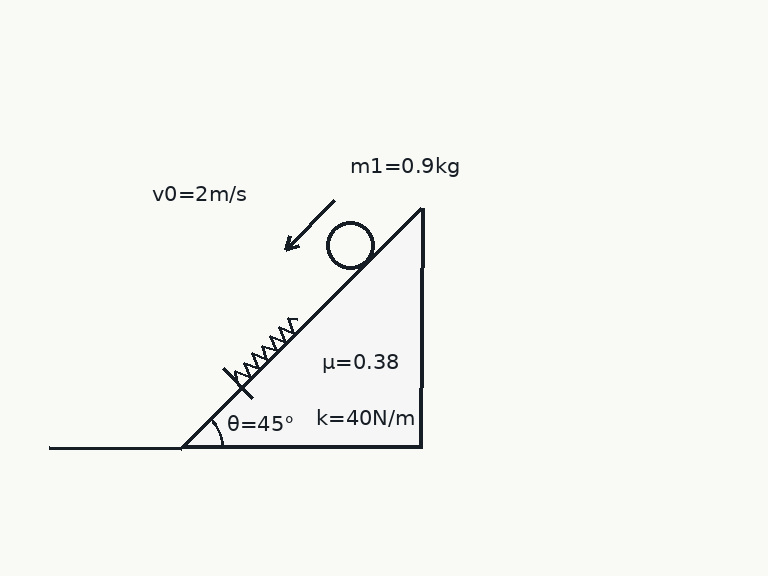ball: (324, 219, 376, 271)
ramp: (180, 206, 423, 449)
spring: (233, 316, 300, 383)
